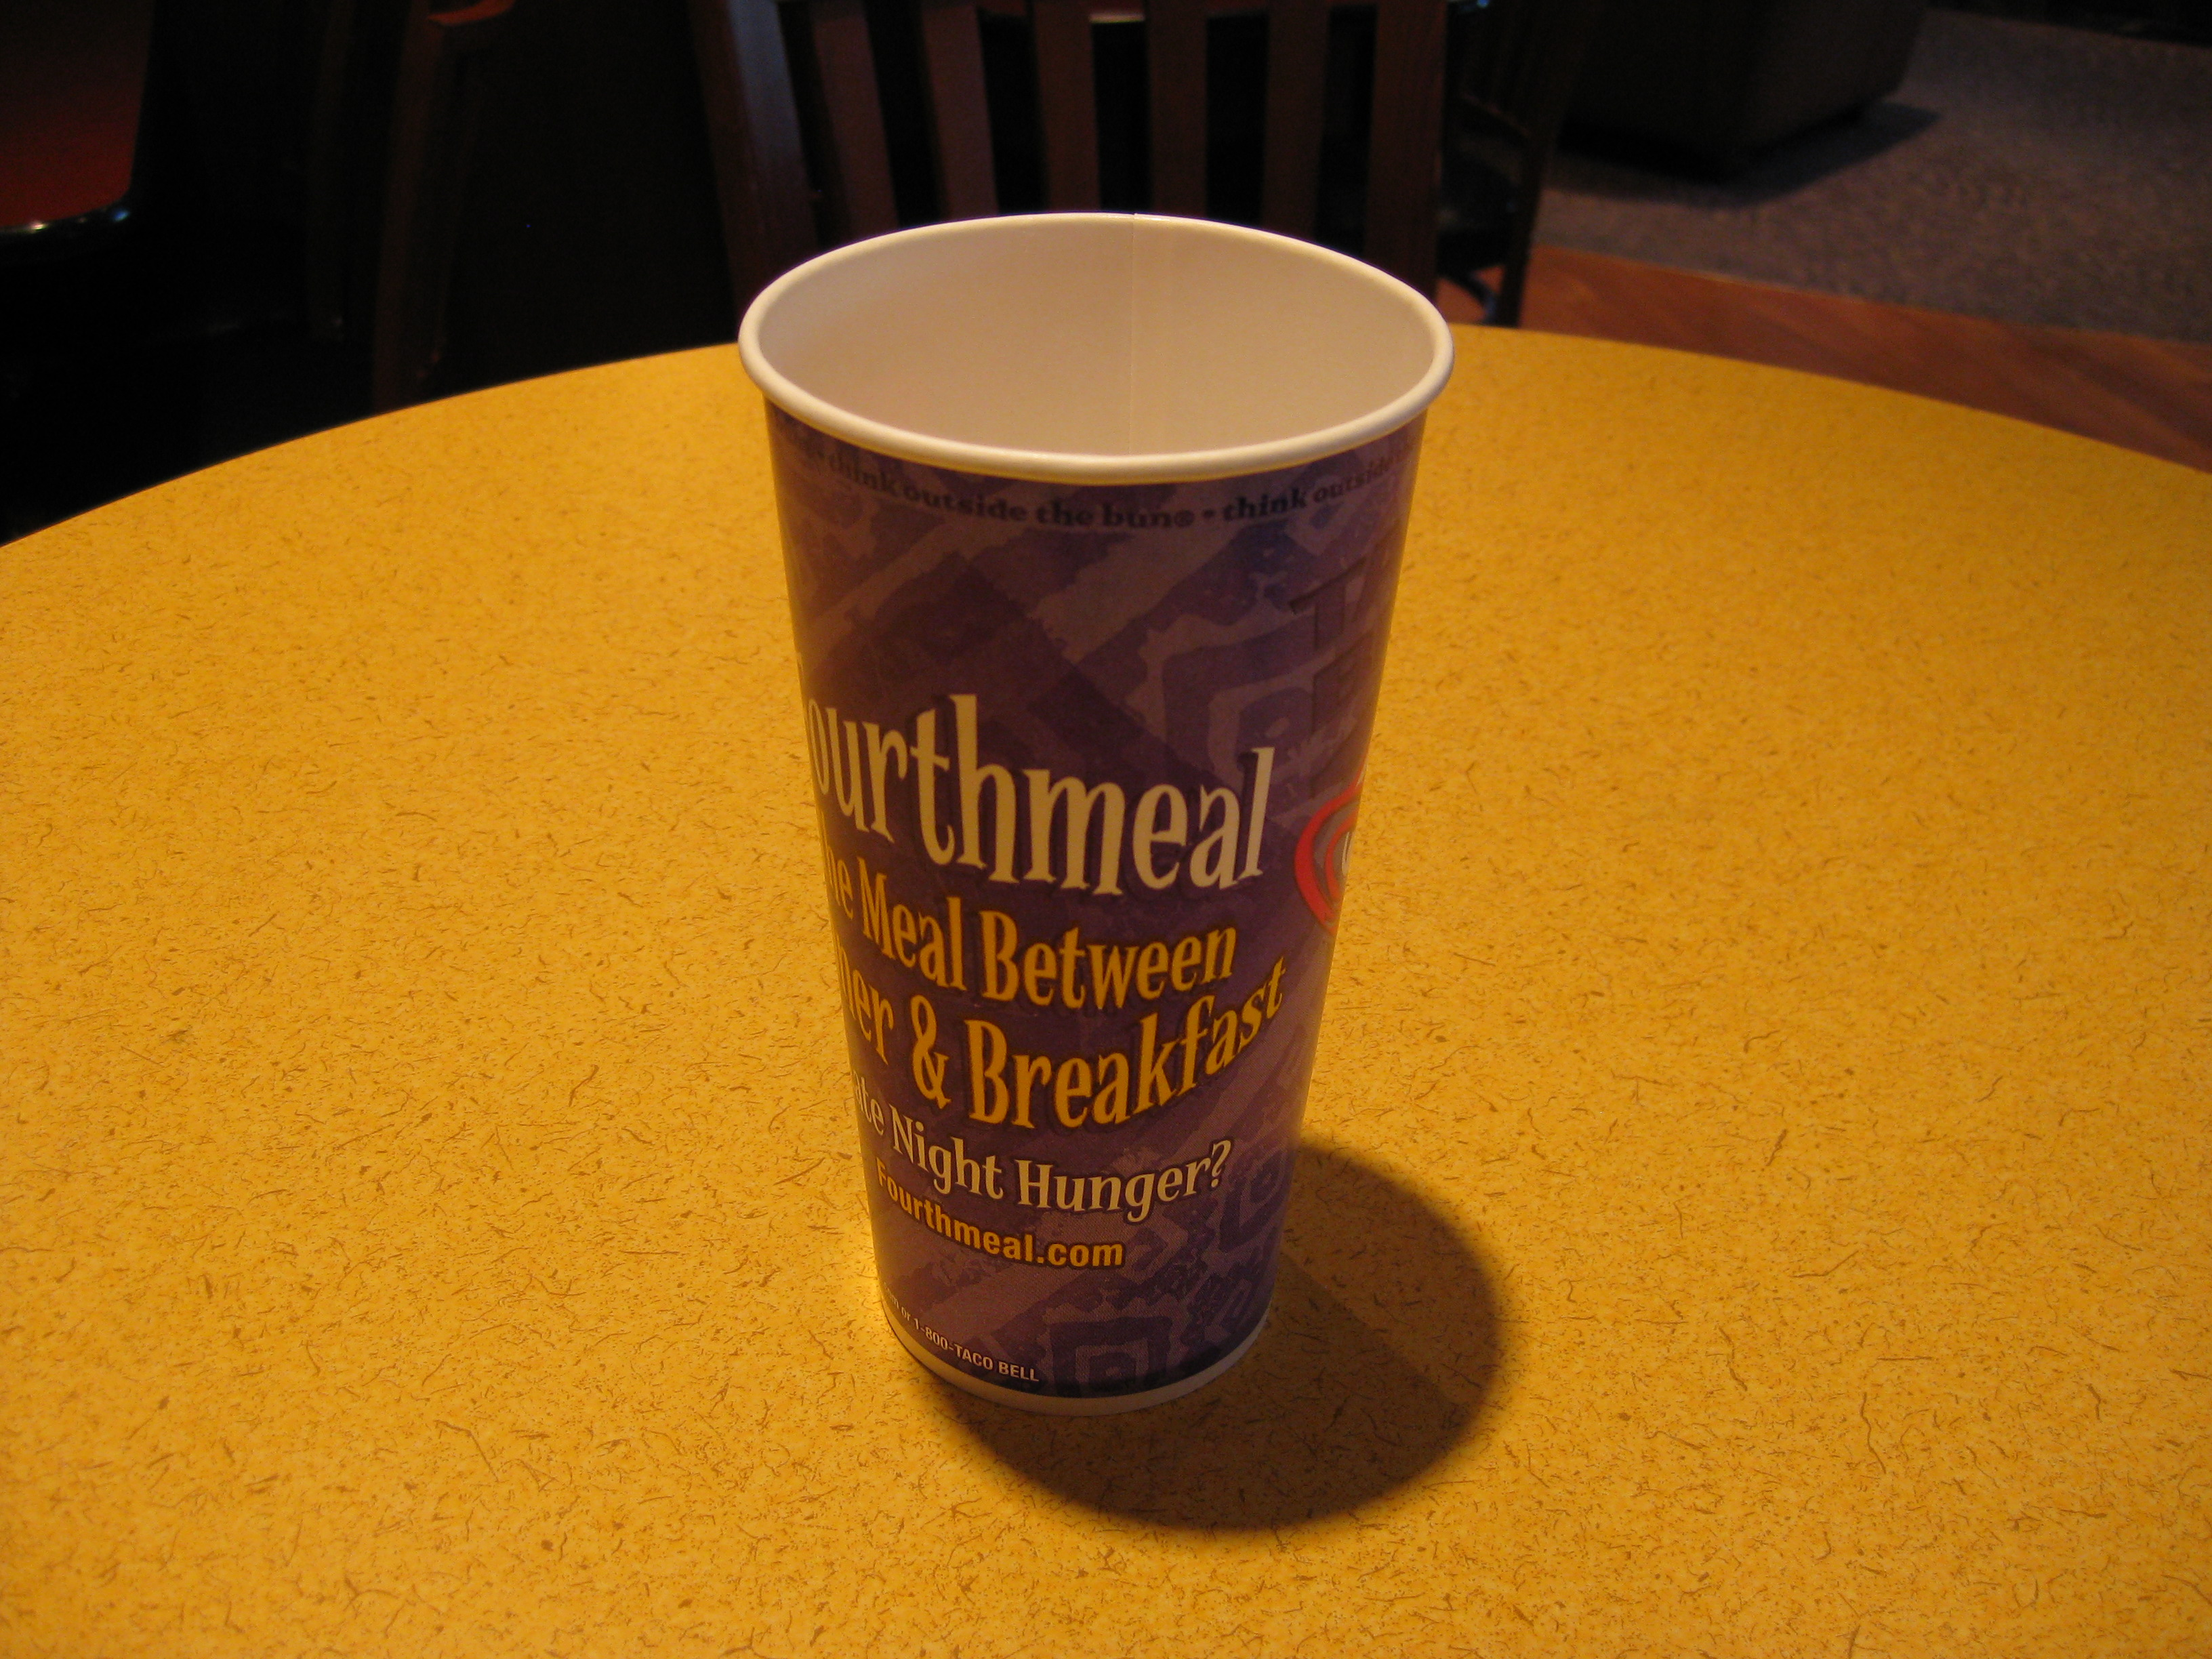burger: (738, 186, 1456, 1427)
